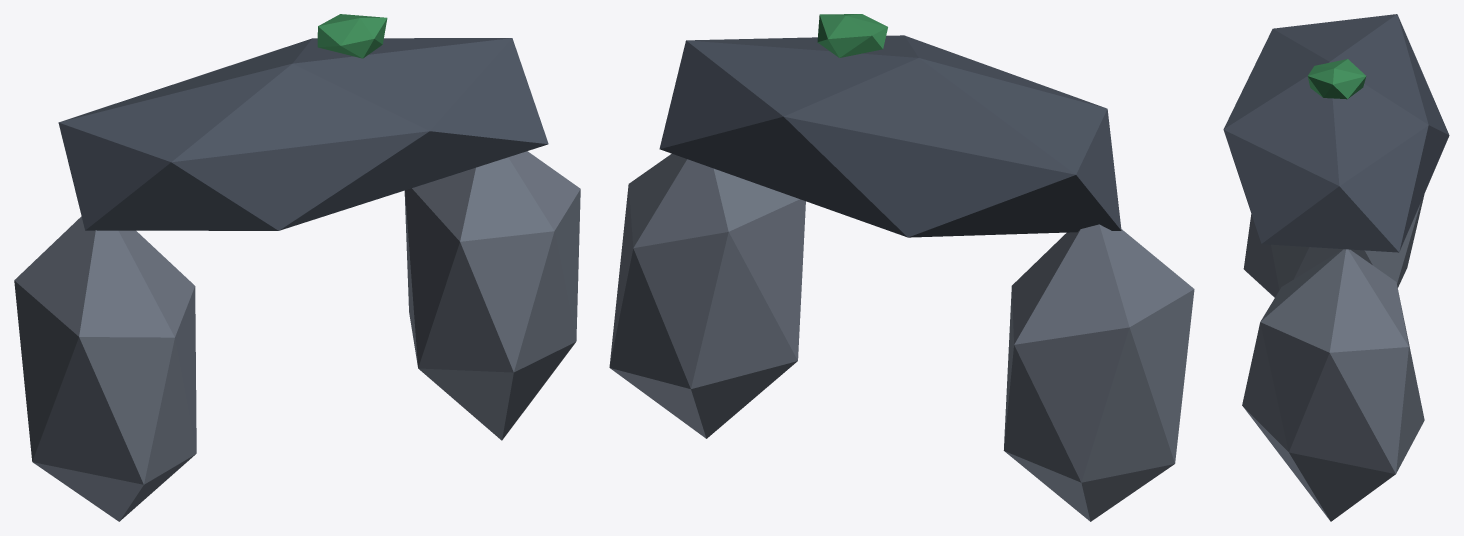
The model's file is sea_arch.glb.
The picture shows the model from 3 angles, left to right: view 1: azimuth 30°, elevation 25°; view 2: azimuth 150°, elevation 25°; view 3: azimuth 270°, elevation 25°; orthographic projection. The views are drawn at different scales.
Visible parts, largest first — view 1: sea_arch; view 2: sea_arch; view 3: sea_arch.
Part boxes in pixels (x1,y1,x2,y2): sea_arch: (14, 14, 580, 521); sea_arch: (609, 14, 1194, 521); sea_arch: (1223, 14, 1449, 521).
Size of the model in its own units: 1.98 by 1.58 by 0.8216.
